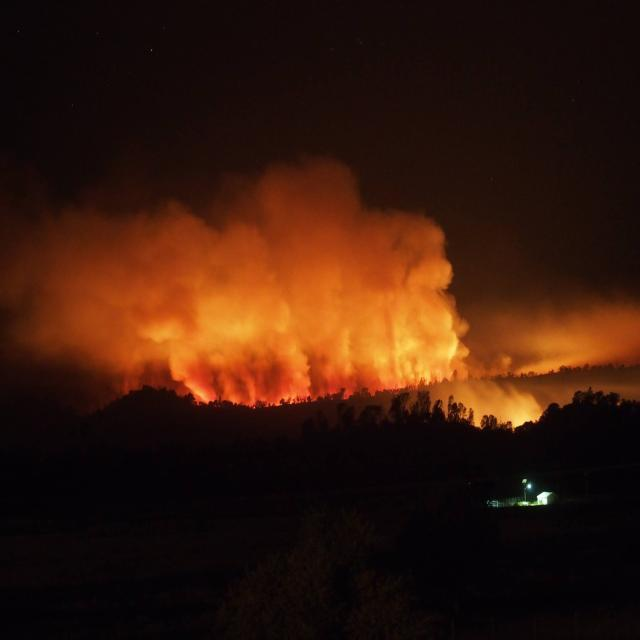Smoke: (49, 174, 477, 398)
